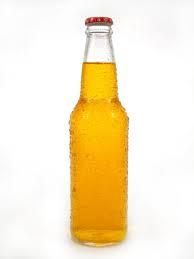Glass bottle: (59, 9, 142, 250)
